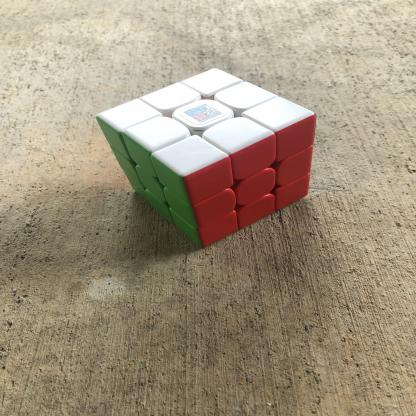SolvedCube: (79, 53, 338, 254)
